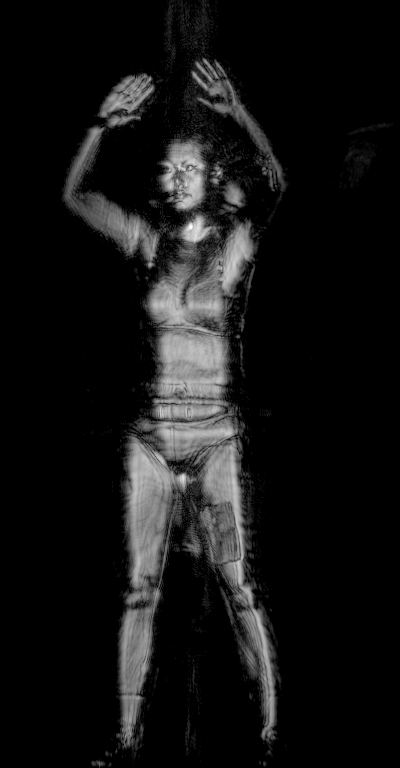head: (149, 136, 225, 222)
others: (200, 501, 244, 564), (255, 157, 282, 196)
person: (61, 56, 287, 768)
